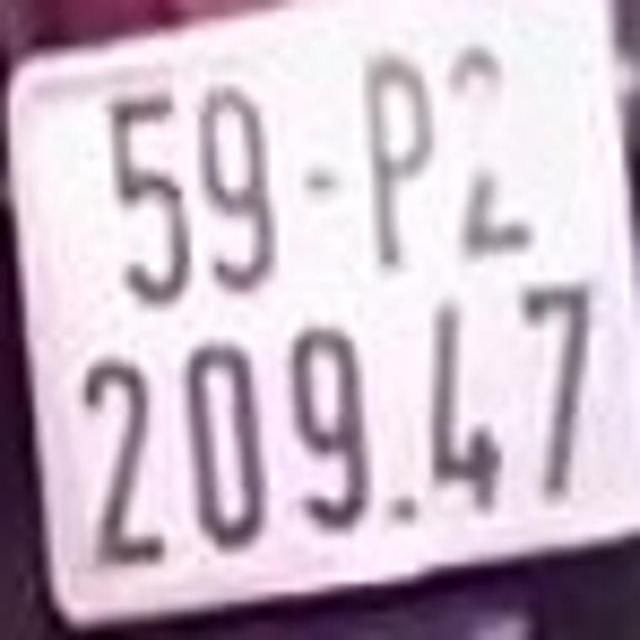0: (182, 333, 270, 554)
2: (78, 347, 172, 575), (442, 33, 537, 258)
4: (424, 302, 507, 520)
5: (100, 87, 195, 302)
7: (511, 272, 605, 506)
9: (194, 73, 282, 297), (287, 321, 372, 534)
P: (354, 49, 440, 273)
